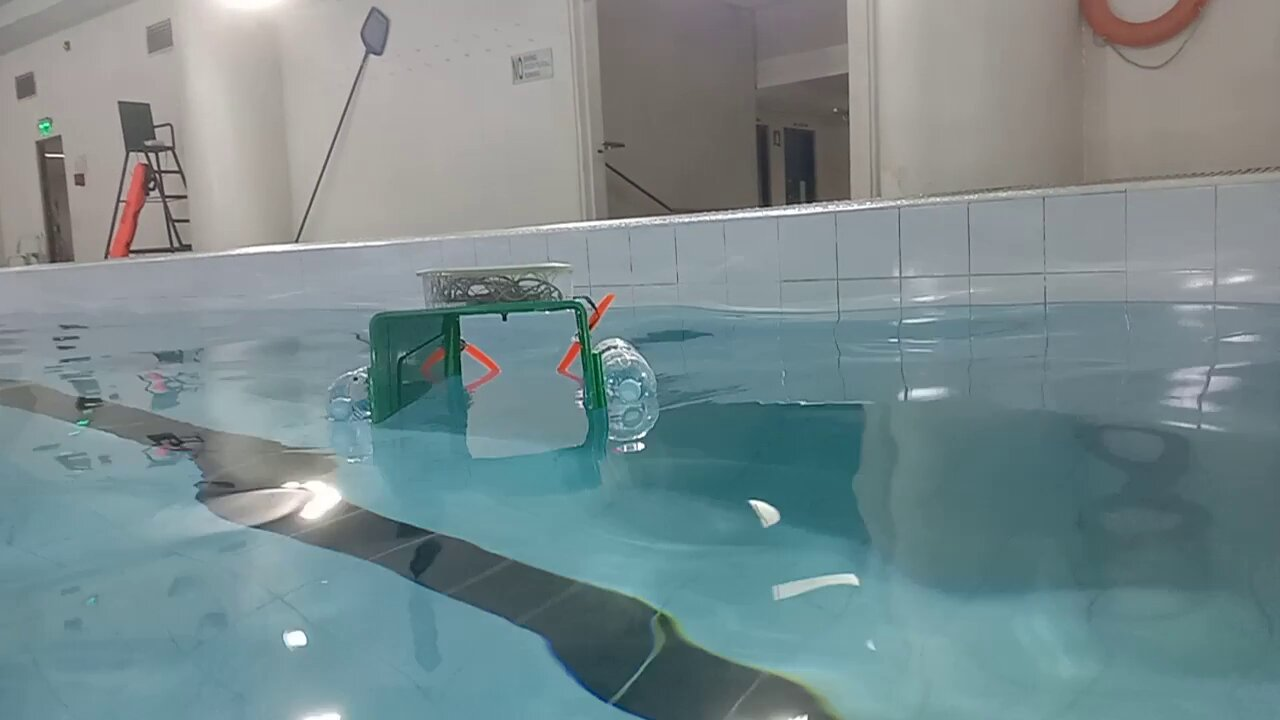drone: (324, 261, 661, 425)
